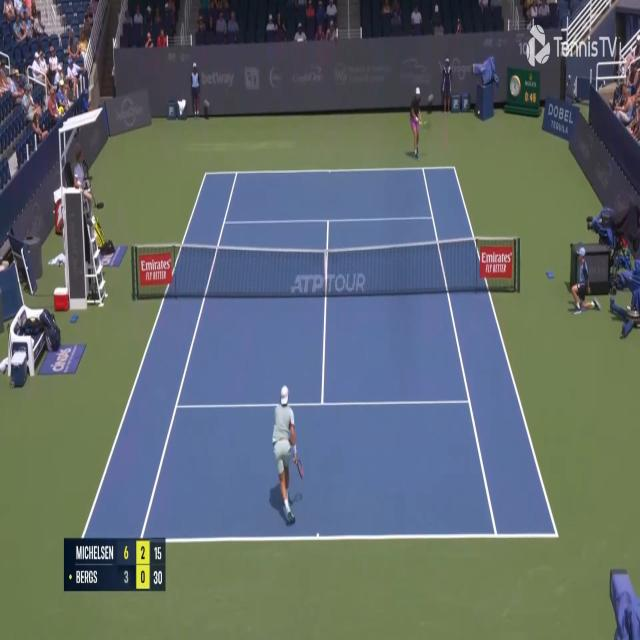tennis-player: (267, 381, 305, 529), (406, 85, 426, 160)
